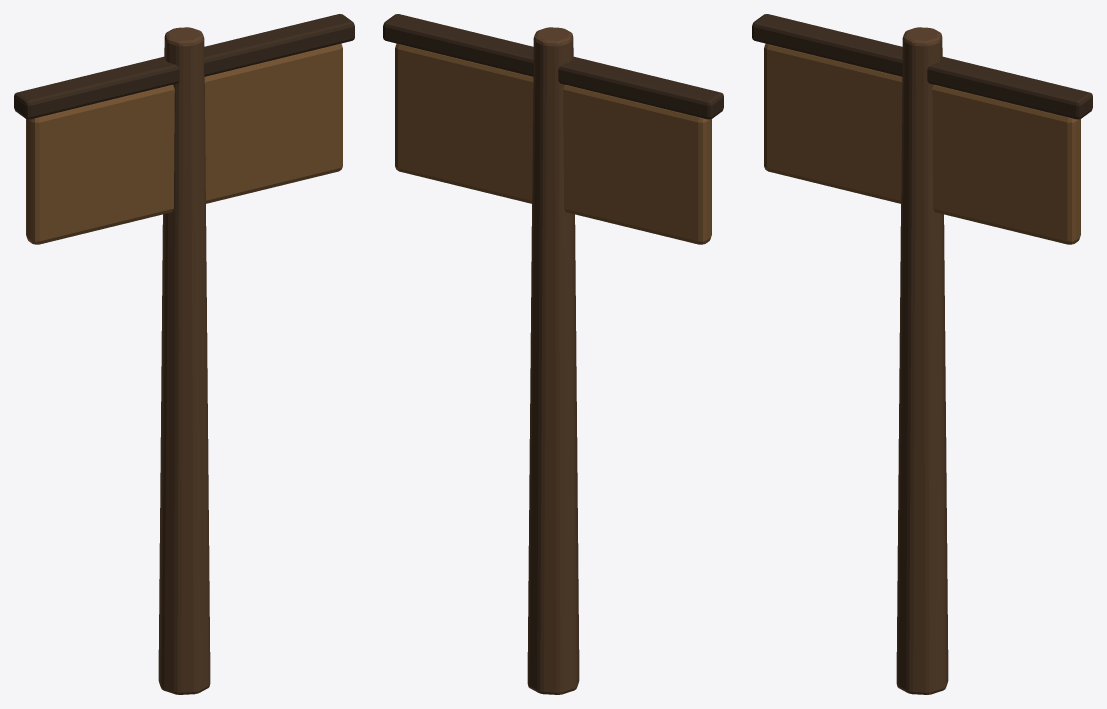
Rendered from signpost.glb.
3 views of the same model, side by side, from view 1: azimuth 30°, elevation 25°; view 2: azimuth 150°, elevation 25°; view 3: azimuth 330°, elevation 25° (orthographic).
Parts seen in each view (by area): view 1: Cube, Cone, Cube.001; view 2: Cube, Cone, Cube.001; view 3: Cube, Cone, Cube.001.
Boxes of the visible parts, x1,y1,x2,y2 form: Cube: [26, 43, 342, 244]; Cone: [158, 27, 210, 694]; Cube.001: [14, 14, 354, 119]; Cube: [395, 43, 711, 244]; Cone: [527, 27, 579, 694]; Cube.001: [383, 14, 723, 119]; Cube: [764, 43, 1080, 244]; Cone: [896, 27, 948, 694]; Cube.001: [752, 14, 1092, 119].
Bounding box in the file's own units: 0.9 × 1.7 × 0.1253.
